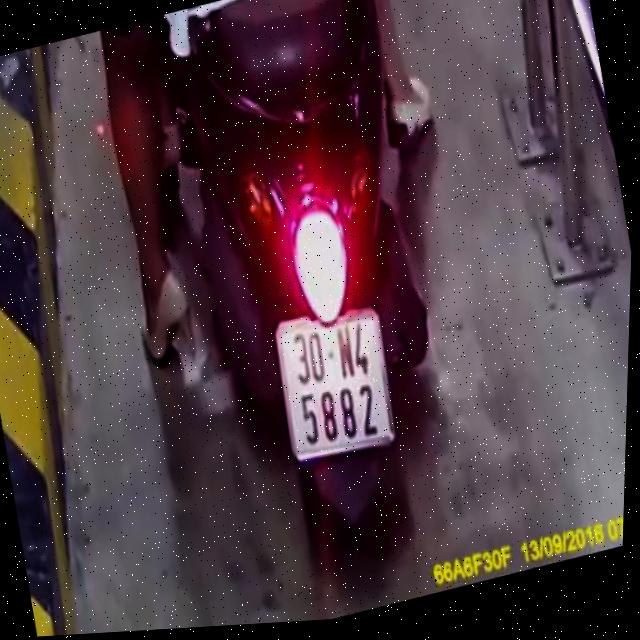motorcycle: (153, 0, 495, 572)
plate: (263, 291, 408, 474)
